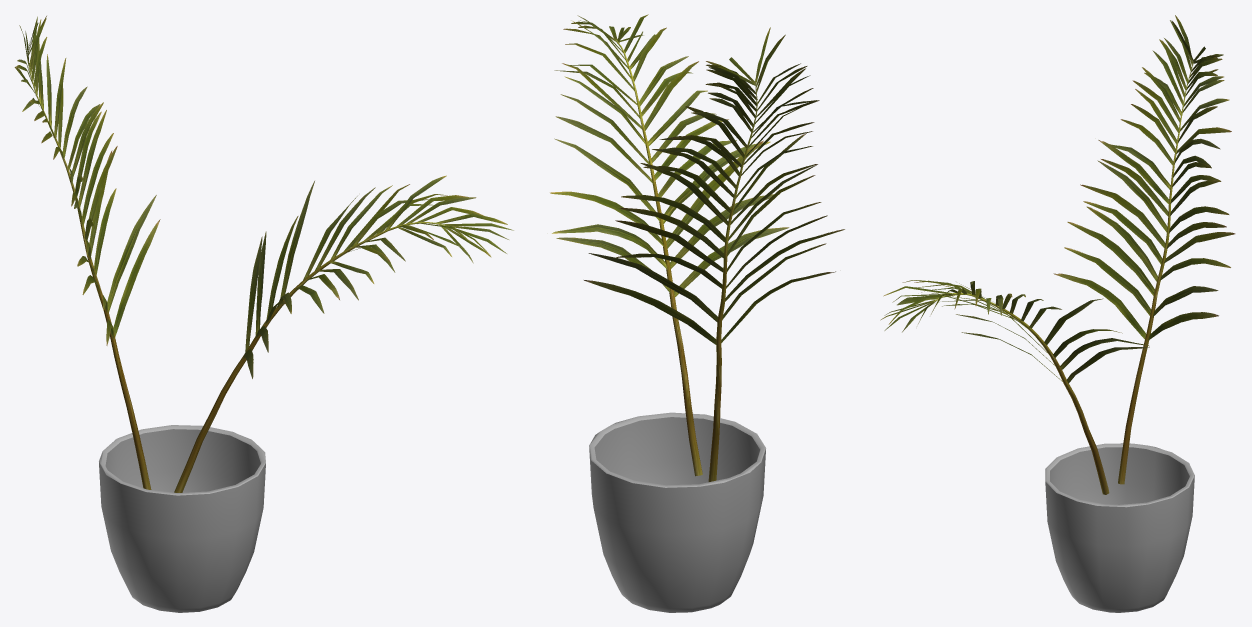
Rendered from HousePlant2.fbx.
3 views of the same model, side by side, from view 1: azimuth 30°, elevation 25°; view 2: azimuth 150°, elevation 25°; view 3: azimuth 270°, elevation 25° (orthographic). The views are drawn at different scales.
Visible parts, largest first — view 1: Pots_Egg_pot_default, PalmBranch1, PalmBranch2; view 2: Pots_Egg_pot_default, PalmBranch2, PalmBranch1; view 3: Pots_Egg_pot_default, PalmBranch2, PalmBranch1.
Boxes of the visible parts, bbox=[...] form: Pots_Egg_pot_default: bbox=[99, 425, 265, 612]; PalmBranch1: bbox=[174, 175, 513, 492]; PalmBranch2: bbox=[14, 16, 160, 489]; Pots_Egg_pot_default: bbox=[589, 412, 765, 612]; PalmBranch2: bbox=[584, 27, 844, 481]; PalmBranch1: bbox=[550, 14, 789, 476]; Pots_Egg_pot_default: bbox=[1045, 443, 1194, 612]; PalmBranch2: bbox=[1053, 15, 1235, 484]; PalmBranch1: bbox=[880, 280, 1149, 494].
Size of the model in its own units: 176 by 268 by 167.
Materials: 3 (2 with a texture image).
